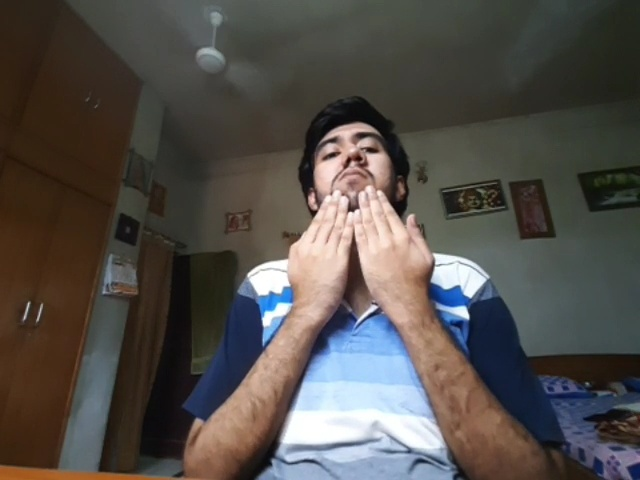ThankYou: (288, 185, 435, 310)
